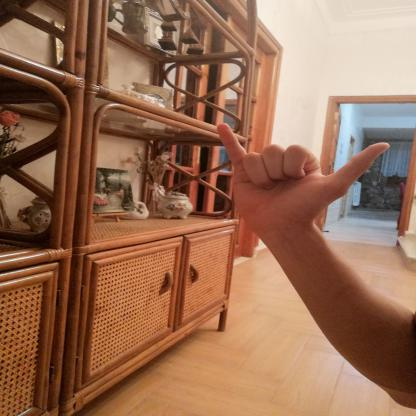YA: (202, 110, 402, 242)
